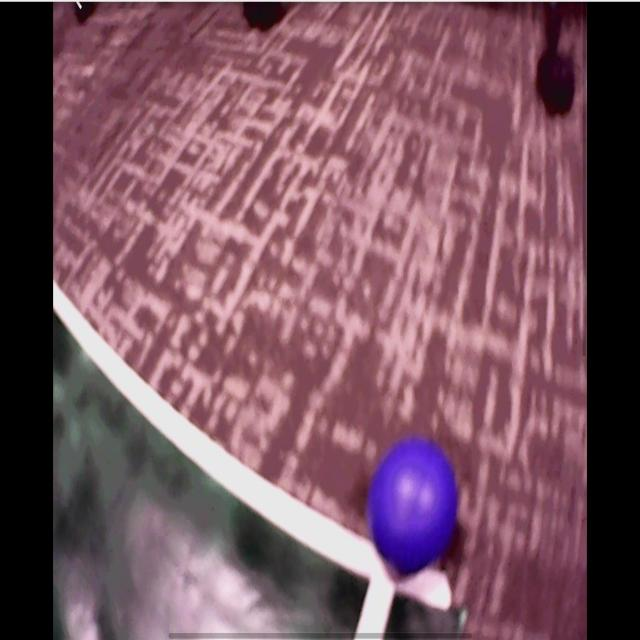ball: (371, 441, 457, 576)
